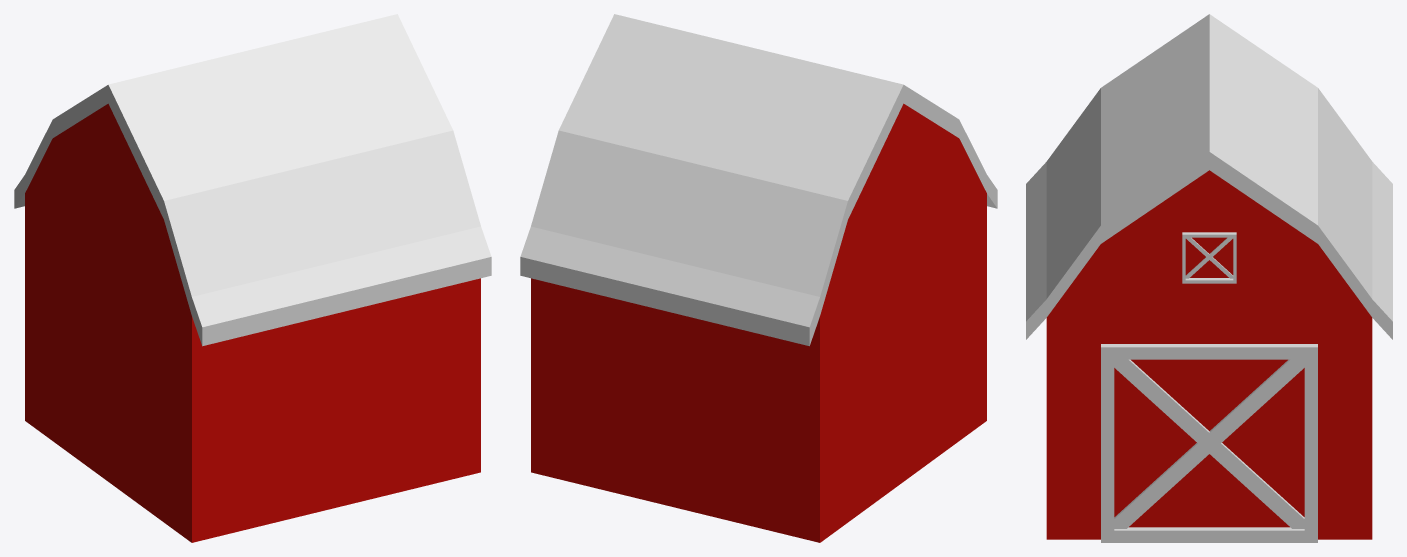
Rendered from Farm_barn.fbx.fbx.
3 views of the same model, side by side, from view 1: azimuth 30°, elevation 25°; view 2: azimuth 150°, elevation 25°; view 3: azimuth 270°, elevation 25° (orthographic). The views are drawn at different scales.
Parts seen in each view (by area): view 1: Cube; view 2: Cube; view 3: Cube.
Part boxes in pixels (<box>): Cube: <box>14,14,491,542</box>; Cube: <box>520,14,997,542</box>; Cube: <box>1026,14,1392,542</box>.
Size of the model in its own units: 4.1 by 5.25 by 4.5.
